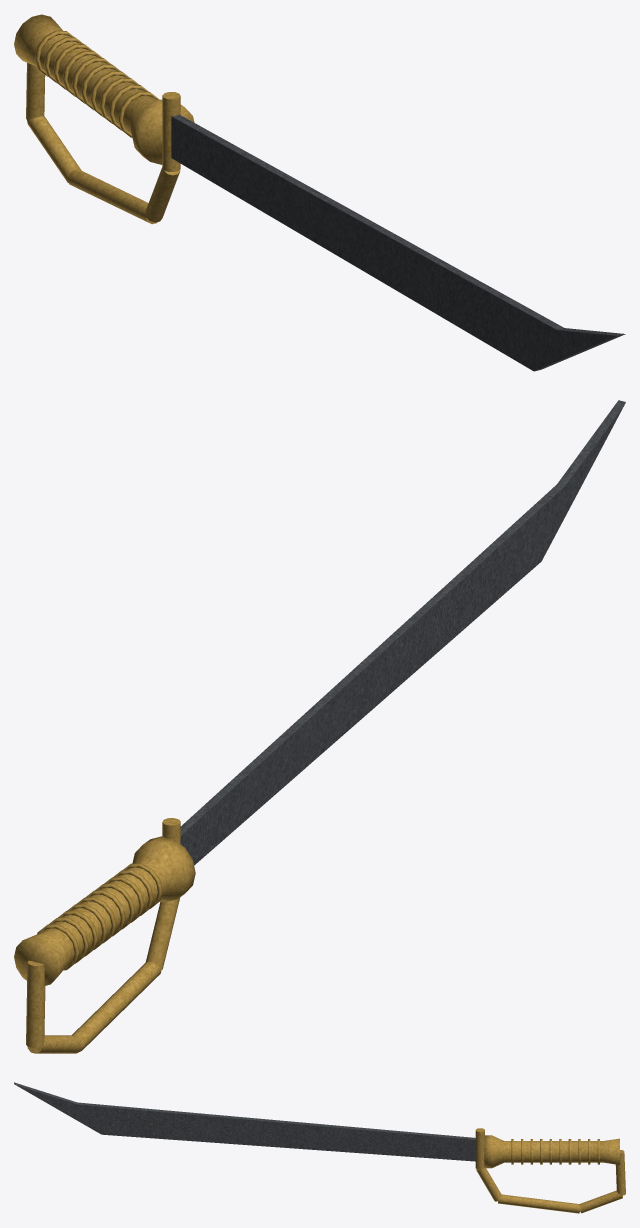
File: sabre_briquet.glb
3 views of the same model, one above another, from view 1: azimuth 30°, elevation 25°; view 2: azimuth 150°, elevation 25°; view 3: azimuth 270°, elevation 25° (orthographic). The views are drawn at different scales.
Parts seen in each view (by area): view 1: sabre_briquet.body; view 2: sabre_briquet.body; view 3: sabre_briquet.body.
Part boxes in pixels (x1=…): sabre_briquet.body: x1=14, y1=14, x2=625, y2=371; sabre_briquet.body: x1=14, y1=400, x2=625, y2=1053; sabre_briquet.body: x1=14, y1=1082, x2=625, y2=1213.
Bounding box in the file's own units: 0.042 × 0.1796 × 0.7675.
Materials: 2 (2 with a texture image).
